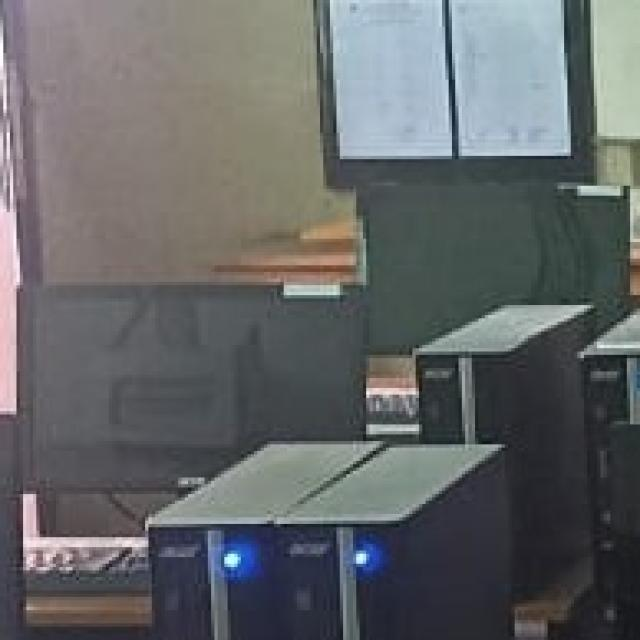onscreen: (26, 282, 358, 485), (353, 185, 629, 352)
